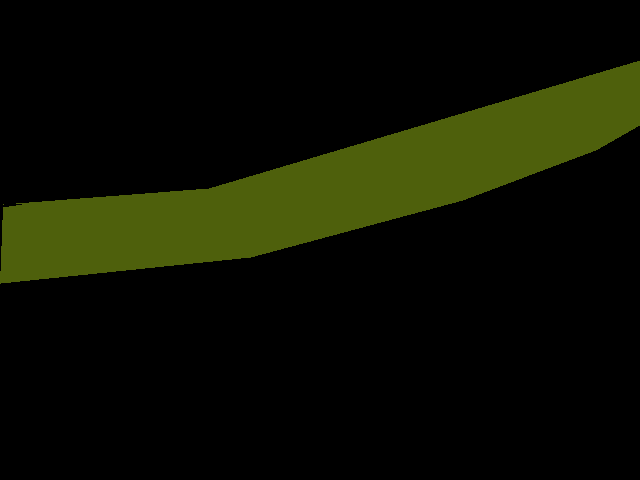Train: (0, 60, 640, 283)
